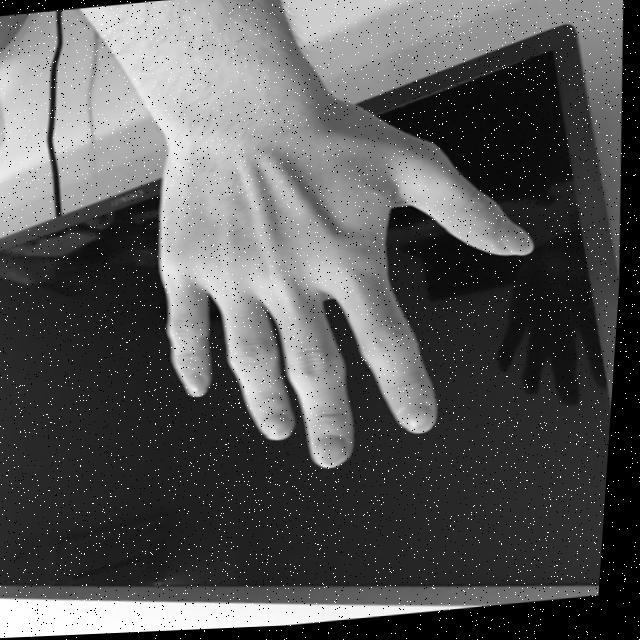hand: (137, 93, 558, 496)
